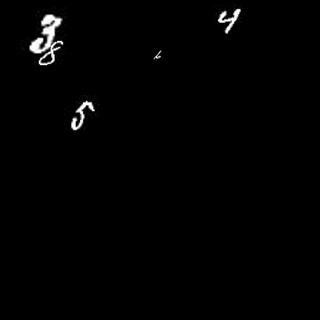eight: (38, 39, 68, 68)
five: (70, 99, 95, 132)
four: (215, 5, 239, 36)
six: (150, 49, 164, 62)
three: (30, 13, 61, 53)
